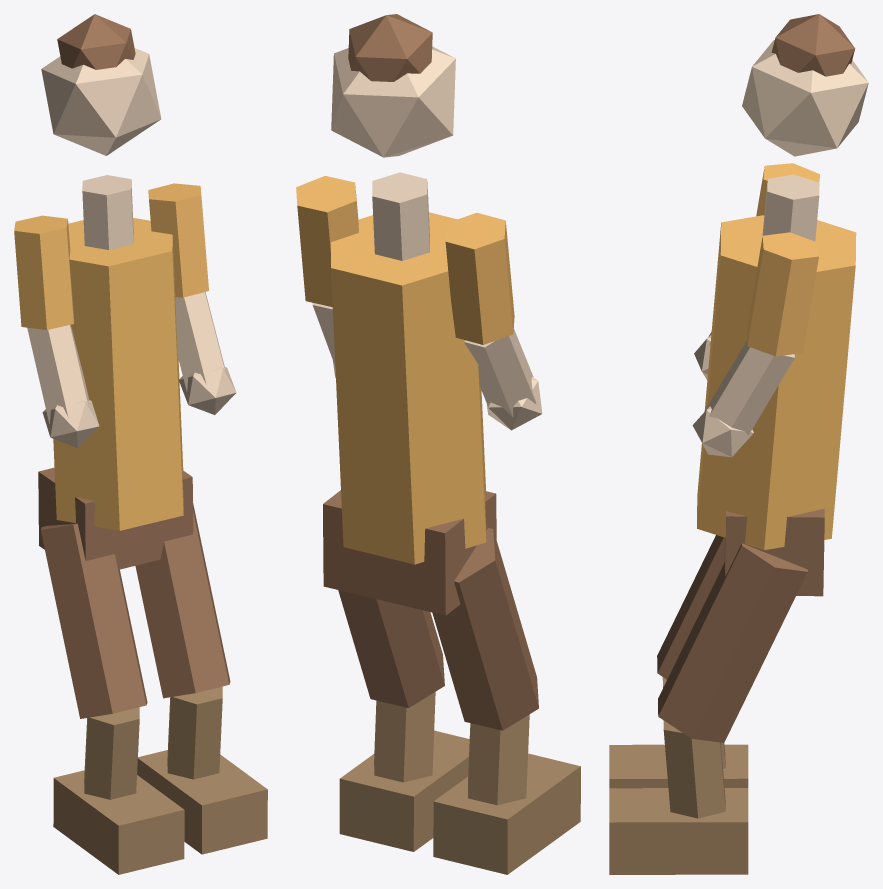
File: pose_hit_light_16.glb
3 views of the same model, side by side, from view 1: azimuth 30°, elevation 25°; view 2: azimuth 150°, elevation 25°; view 3: azimuth 270°, elevation 25° (orthographic). The views are drawn at different scales.
Parts seen in each view (by area): view 1: pose; view 2: pose; view 3: pose.
Part boxes in pixels (x1,y1,x2,y2): pose: (14, 14, 267, 874); pose: (296, 14, 580, 874); pose: (609, 14, 868, 874).
Bounding box in the file's own units: 0.3963 × 1.57 × 0.4482.
